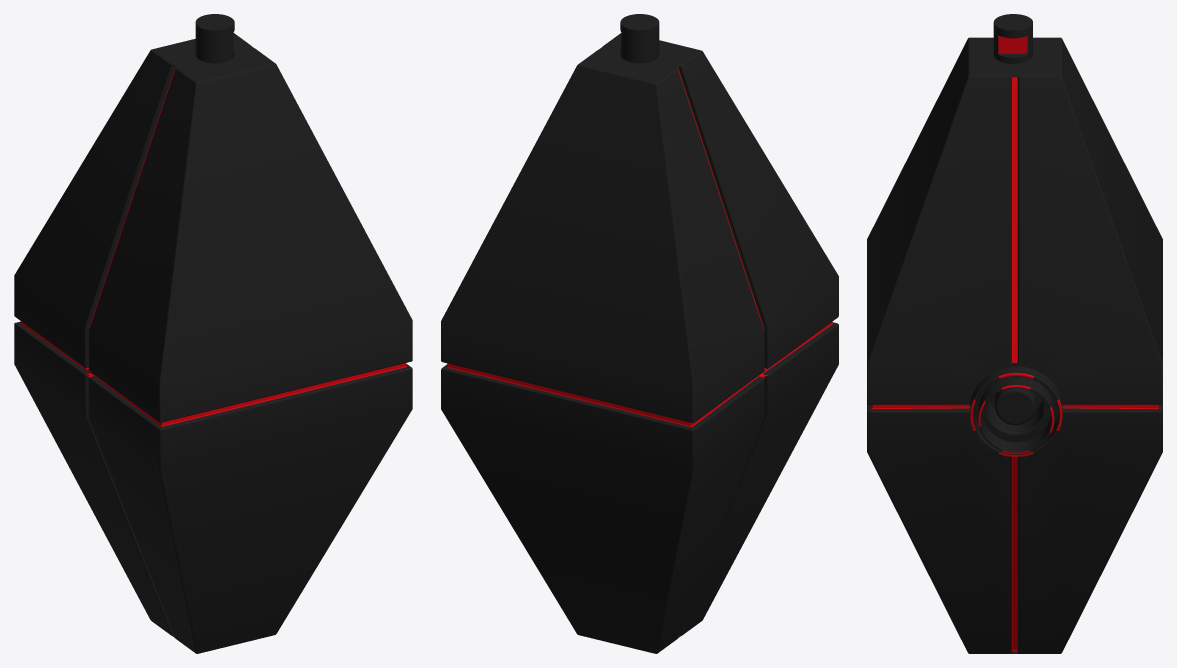
File: LaserFloatingEnemy.fbx
The picture shows the model from 3 angles, left to right: view 1: azimuth 30°, elevation 25°; view 2: azimuth 150°, elevation 25°; view 3: azimuth 270°, elevation 25°; orthographic projection.
Visible parts, largest first — view 1: Body, BrightSiren; view 2: Body, BrightSiren; view 3: Body, LaiserInnerCircleDetail, LaiserCircleDetail, BrightSiren, LaserEye, Cube.
Part boxes in pixels (x1,y1,x2,y2): Body: [14, 33, 412, 653]; BrightSiren: [195, 14, 234, 63]; Body: [441, 33, 838, 653]; BrightSiren: [620, 14, 659, 63]; Body: [867, 37, 1162, 653]; LaiserInnerCircleDetail: [978, 376, 1054, 454]; LaiserCircleDetail: [970, 366, 1062, 456]; BrightSiren: [993, 14, 1032, 63]; LaserEye: [995, 388, 1035, 425]; Cube: [998, 35, 1027, 53].
Bounding box in the file's own units: 165 × 344 × 151.
